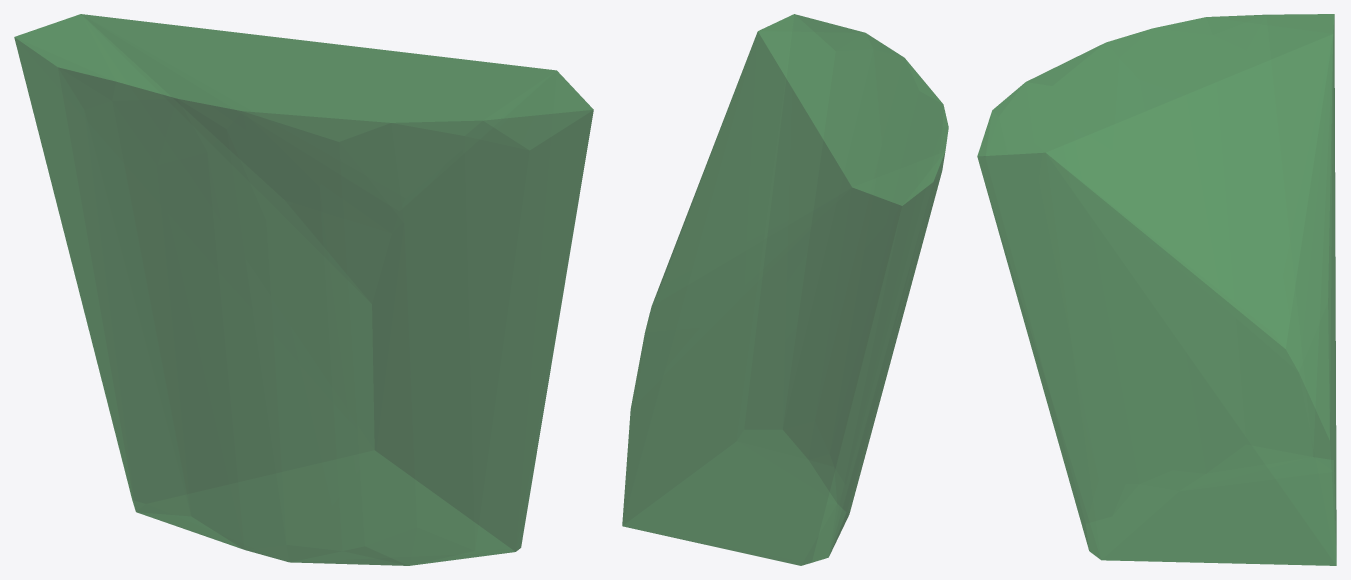
3 views of the same model, side by side, from view 1: azimuth 30°, elevation 25°; view 2: azimuth 150°, elevation 25°; view 3: azimuth 270°, elevation 25° (orthographic). The views are drawn at different scales.
Visible parts, largest first — view 1: Shape_IndexedFaceSet.003_Shape_IndexedFaceSet.12274; view 2: Shape_IndexedFaceSet.003_Shape_IndexedFaceSet.12274; view 3: Shape_IndexedFaceSet.003_Shape_IndexedFaceSet.12274.
Boxes of the visible parts, left/top/right/bottom form: Shape_IndexedFaceSet.003_Shape_IndexedFaceSet.12274: left=14, top=14, right=593, bottom=565; Shape_IndexedFaceSet.003_Shape_IndexedFaceSet.12274: left=622, top=14, right=948, bottom=565; Shape_IndexedFaceSet.003_Shape_IndexedFaceSet.12274: left=977, top=14, right=1336, bottom=565.
Bounding box in the file's own units: 0.4484 × 0.5986 × 0.4704.
